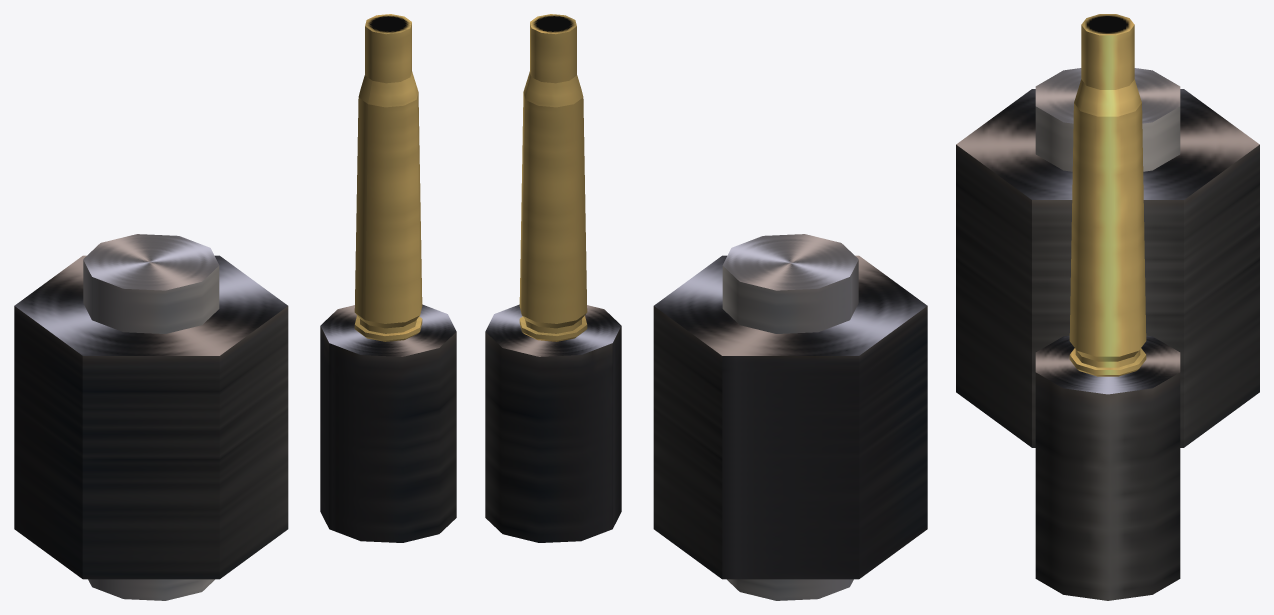
File: ammomaker_ReloadingPressDieSet.fbx
The picture shows the model from 3 angles, left to right: view 1: azimuth 30°, elevation 25°; view 2: azimuth 150°, elevation 25°; view 3: azimuth 270°, elevation 25°; orthographic projection. The views are drawn at different scales.
Parts seen in each view (by area): view 1: ammomaker_ReloadingDieSet; view 2: ammomaker_ReloadingDieSet; view 3: ammomaker_ReloadingDieSet.
Part boxes in pixels (left/top/right/bottom): ammomaker_ReloadingDieSet: left=14, top=14, right=456, bottom=600; ammomaker_ReloadingDieSet: left=485, top=14, right=927, bottom=600; ammomaker_ReloadingDieSet: left=956, top=14, right=1259, bottom=600.
Bounding box in the file's own units: 3.37 × 3.95 × 2.
